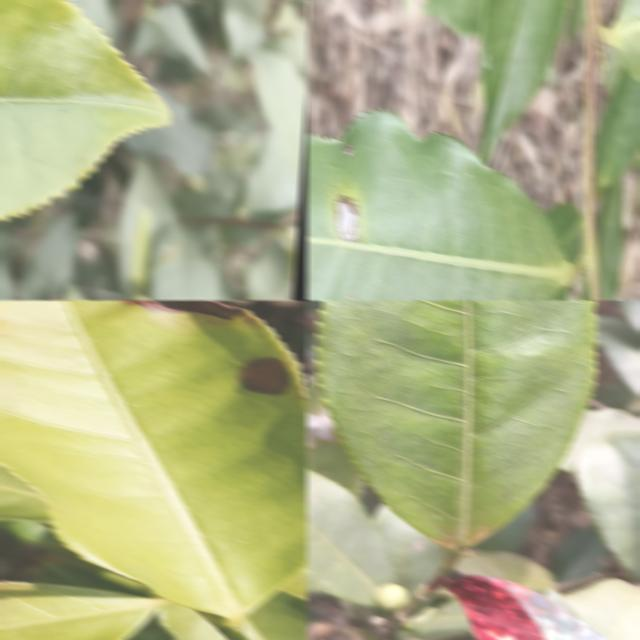Leaf: (0, 300, 308, 624), (316, 300, 595, 550), (306, 110, 578, 300), (0, 0, 170, 218), (478, 0, 570, 161), (306, 468, 394, 604), (0, 581, 166, 640), (574, 431, 640, 576), (250, 49, 308, 183), (306, 377, 363, 495), (593, 68, 640, 187), (149, 225, 218, 300), (562, 578, 640, 640), (594, 178, 624, 300), (595, 316, 640, 397), (244, 591, 308, 640), (157, 603, 229, 640), (422, 0, 484, 34)
